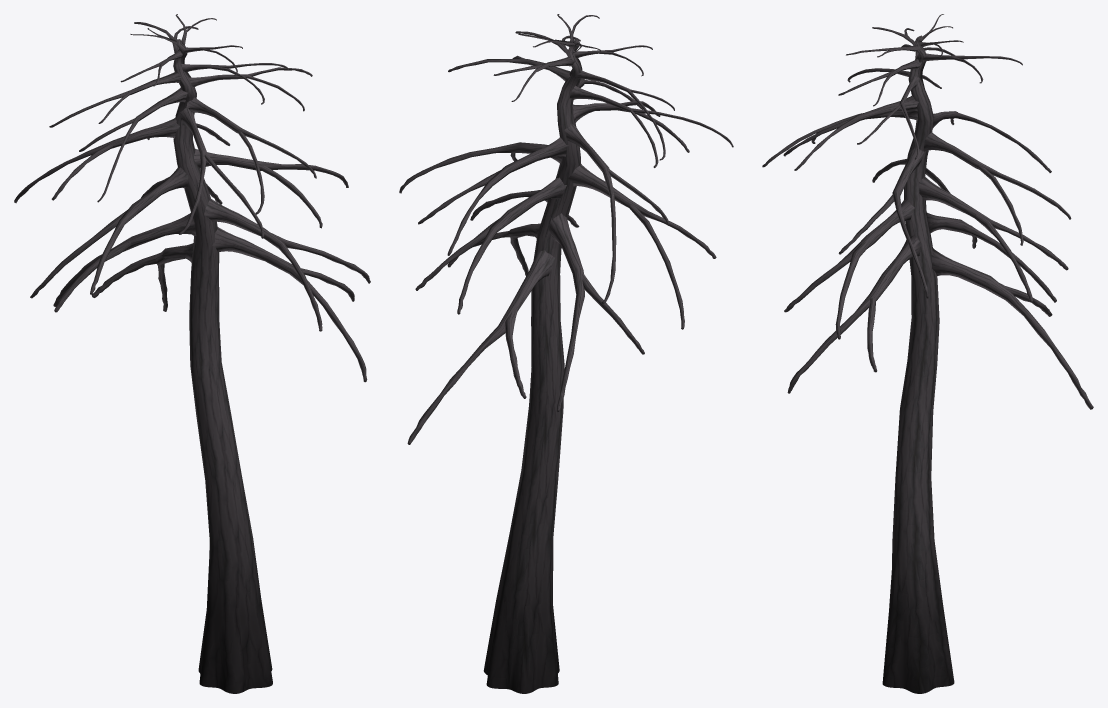
Rendered from DeadTree_3.glb.
3 views of the same model, side by side, from view 1: azimuth 30°, elevation 25°; view 2: azimuth 150°, elevation 25°; view 3: azimuth 270°, elevation 25° (orthographic). The views are drawn at different scales.
Visible parts, largest first — view 1: DeadTree_3; view 2: DeadTree_3; view 3: DeadTree_3.
Boxes of the visible parts, box(x1,y1,x2,y2) form: DeadTree_3: box(14, 14, 370, 693); DeadTree_3: box(399, 14, 733, 693); DeadTree_3: box(762, 14, 1093, 693).
Bounding box in the file's own units: 6.39 × 13.28 × 6.43.
Materials: 1 (1 with a texture image).
